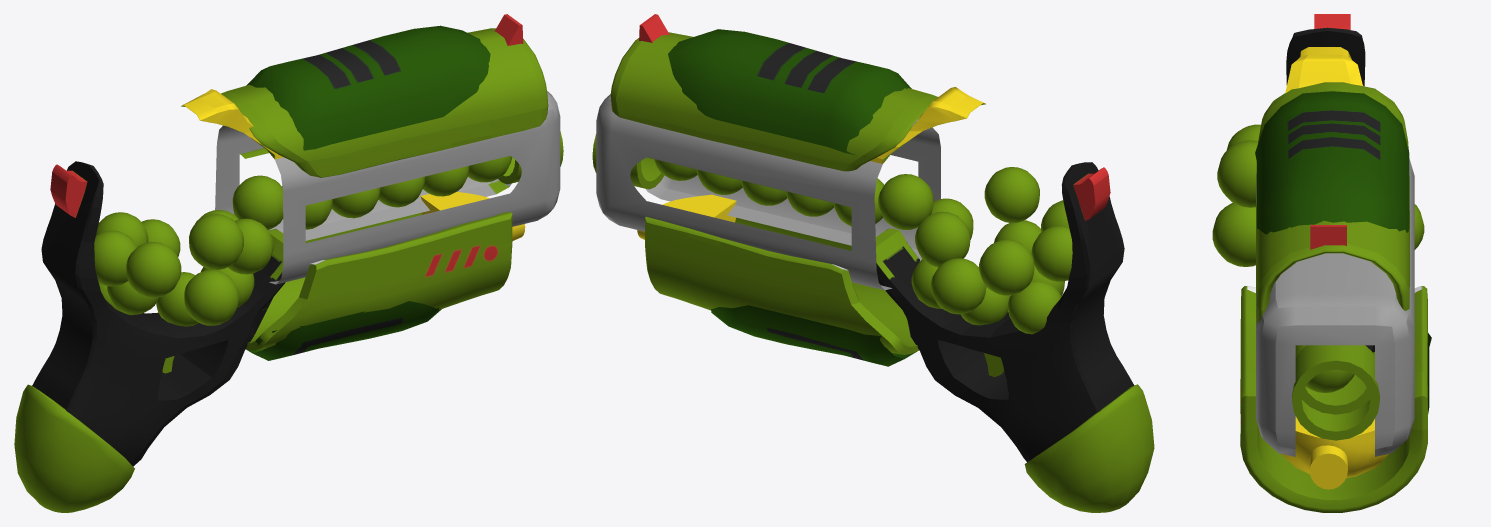
Rendered from Pea Shooter.fbx.
3 renders of one model, left to right at view 1: azimuth 30°, elevation 25°; view 2: azimuth 150°, elevation 25°; view 3: azimuth 270°, elevation 25°, orthographic. The views are drawn at different scales.
Visible parts, largest first — view 1: Pea_Shooter; view 2: Pea_Shooter; view 3: Pea_Shooter.
Part boxes in pixels (x1=…): Pea_Shooter: x1=14, y1=14, x2=563, y2=512; Pea_Shooter: x1=592, y1=14, x2=1154, y2=512; Pea_Shooter: x1=1212, y1=14, x2=1431, y2=512.
Size of the model in its own units: 11.47 by 8.02 by 4.61.
